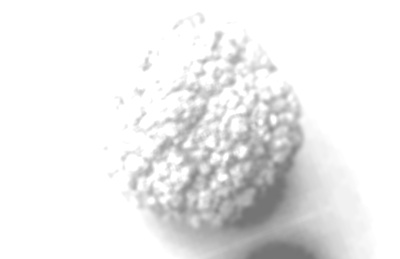halobolite: (52, 0, 344, 259)
